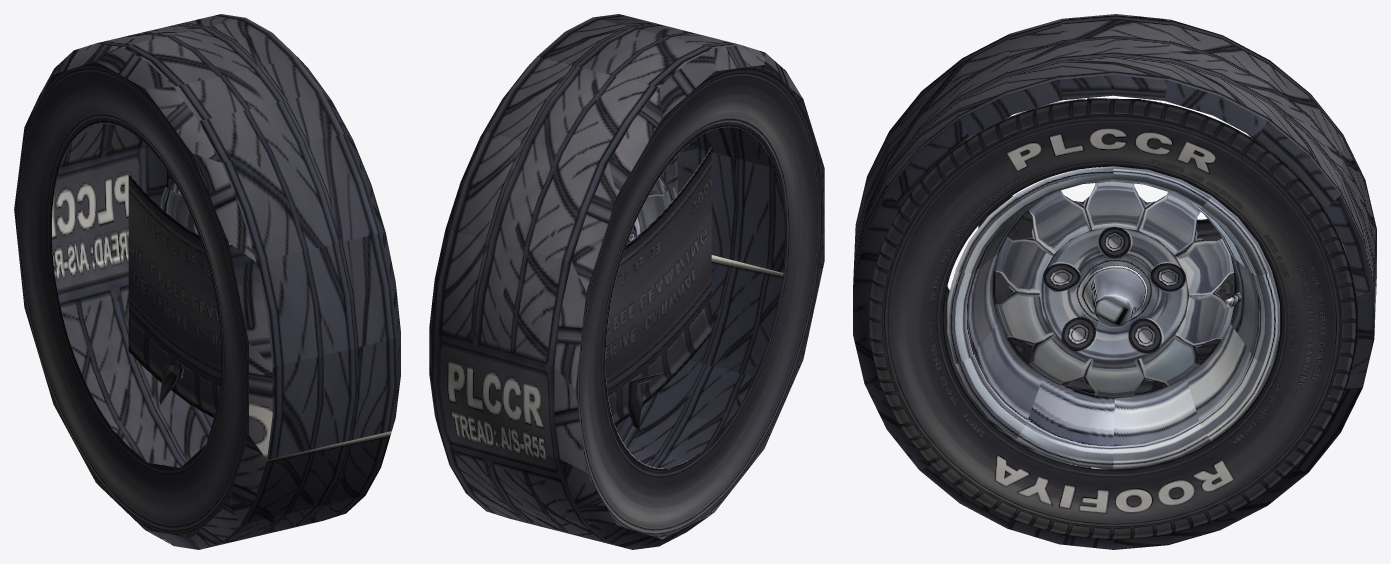
The model's file is LlaTexChallen.obj.
3 views of the same model, side by side, from view 1: azimuth 30°, elevation 25°; view 2: azimuth 150°, elevation 25°; view 3: azimuth 270°, elevation 25° (orthographic).
Visible parts, largest first — view 1: LlantaDD_Mat_Rodamiento, LlantaDD_Mat_CaraInterna, LlantaDD_Mat_CaraExterna, LlantaDD_Mat_Rin; view 2: LlantaDD_Mat_Rodamiento, LlantaDD_Mat_CaraInterna, LlantaDD_Mat_CaraExterna, LlantaDD_Mat_Rin; view 3: LlantaDD_Mat_CaraExterna, LlantaDD_Mat_Rin, LlantaDD_Mat_Rodamiento, LlantaDD_Mat_CaraInterna.
Part boxes in pixels (x1,y1,x2,y2): LlantaDD_Mat_Rodamiento: (25, 14, 400, 549); LlantaDD_Mat_CaraInterna: (14, 61, 248, 537); LlantaDD_Mat_CaraExterna: (128, 171, 221, 417); LlantaDD_Mat_Rin: (160, 181, 198, 233); LlantaDD_Mat_Rodamiento: (429, 14, 802, 549); LlantaDD_Mat_CaraInterna: (575, 65, 824, 539); LlantaDD_Mat_CaraExterna: (605, 147, 711, 429); LlantaDD_Mat_Rin: (627, 175, 676, 243); LlantaDD_Mat_CaraExterna: (869, 98, 1357, 540); LlantaDD_Mat_Rin: (947, 166, 1279, 469); LlantaDD_Mat_Rodamiento: (853, 14, 1376, 549); LlantaDD_Mat_CaraInterna: (943, 116, 1354, 460).
Size of the model in its own units: 1.9 by 5.15 by 5.14.
